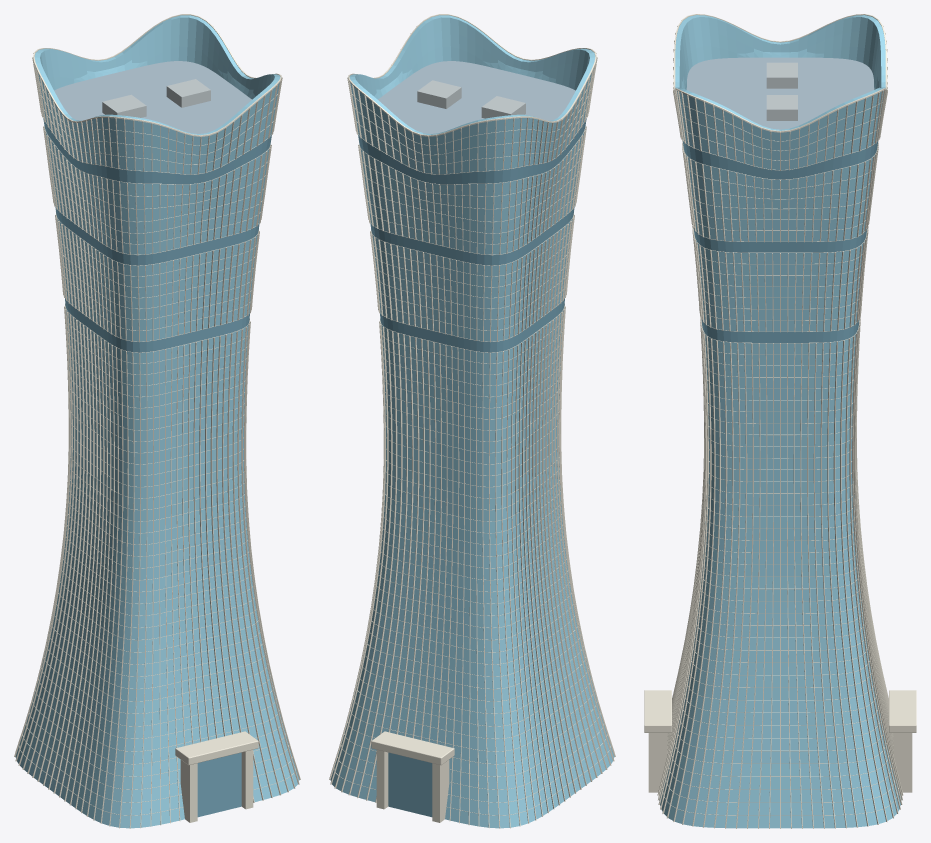
3 renders of one model, left to right at view 1: azimuth 30°, elevation 25°; view 2: azimuth 150°, elevation 25°; view 3: azimuth 270°, elevation 25°, orthographic. The views are drawn at different scales.
Visible parts, largest first — view 1: ZUN-facade-glass, ZUN-vertical-mullions, ZUN-horizontal-transoms, R2-ZUN-shallow-roof-pan, lobby-recess--1, flared-lobby-canopy--1, ZUN-wave-crown-edge, R2-ZUN-entry--1-jamb--0.19, R2-ZUN-roof-equipment-1, R2-ZUN-roof-equipment-0, R2-ZUN-entry--1-jamb-0.19; view 2: ZUN-facade-glass, ZUN-vertical-mullions, ZUN-horizontal-transoms, R2-ZUN-shallow-roof-pan, lobby-recess-1, flared-lobby-canopy-1, ZUN-wave-crown-edge, R2-ZUN-entry-1-jamb--0.19, R2-ZUN-roof-equipment-1, R2-ZUN-entry-1-jamb-0.19, R2-ZUN-roof-equipment-0; view 3: ZUN-facade-glass, ZUN-vertical-mullions, ZUN-horizontal-transoms, R2-ZUN-shallow-roof-pan, ZUN-wave-crown-edge, flared-lobby-canopy-1, flared-lobby-canopy--1, R2-ZUN-entry-1-jamb-0.19, R2-ZUN-entry--1-jamb-0.19, R2-ZUN-roof-equipment-0, R2-ZUN-roof-equipment-1.
Boxes of the visible parts, x1=… form: ZUN-facade-glass: x1=15, y1=15, x2=299, y2=828; ZUN-vertical-mullions: x1=14, y1=26, x2=300, y2=828; ZUN-horizontal-transoms: x1=19, y1=77, x2=295, y2=815; R2-ZUN-shallow-roof-pan: x1=54, y1=61, x2=251, y2=133; lobby-recess--1: x1=197, y1=752, x2=241, y2=817; flared-lobby-canopy--1: x1=175, y1=731, x2=258, y2=765; ZUN-wave-crown-edge: x1=33, y1=14, x2=281, y2=136; R2-ZUN-entry--1-jamb--0.19: x1=180, y1=760, x2=197, y2=822; R2-ZUN-roof-equipment-1: x1=166, y1=79, x2=210, y2=107; R2-ZUN-roof-equipment-0: x1=102, y1=94, x2=146, y2=117; R2-ZUN-entry--1-jamb-0.19: x1=241, y1=750, x2=253, y2=809; ZUN-facade-glass: x1=330, y1=15, x2=614, y2=828; ZUN-vertical-mullions: x1=329, y1=26, x2=615, y2=828; ZUN-horizontal-transoms: x1=334, y1=77, x2=610, y2=815; R2-ZUN-shallow-roof-pan: x1=378, y1=61, x2=575, y2=133; lobby-recess-1: x1=388, y1=752, x2=432, y2=817; flared-lobby-canopy-1: x1=371, y1=731, x2=454, y2=765; ZUN-wave-crown-edge: x1=348, y1=14, x2=596, y2=136; R2-ZUN-entry-1-jamb--0.19: x1=432, y1=760, x2=449, y2=822; R2-ZUN-roof-equipment-1: x1=417, y1=80, x2=461, y2=108; R2-ZUN-entry-1-jamb-0.19: x1=376, y1=750, x2=388, y2=809; R2-ZUN-roof-equipment-0: x1=481, y1=96, x2=525, y2=118; ZUN-facade-glass: x1=659, y1=15, x2=901, y2=828; ZUN-vertical-mullions: x1=657, y1=20, x2=903, y2=828; ZUN-horizontal-transoms: x1=661, y1=102, x2=899, y2=815; R2-ZUN-shallow-roof-pan: x1=686, y1=57, x2=874, y2=129; ZUN-wave-crown-edge: x1=673, y1=14, x2=887, y2=132; flared-lobby-canopy-1: x1=889, y1=690, x2=916, y2=732; flared-lobby-canopy--1: x1=644, y1=690, x2=671, y2=732; R2-ZUN-entry-1-jamb-0.19: x1=893, y1=733, x2=912, y2=792; R2-ZUN-entry--1-jamb-0.19: x1=648, y1=733, x2=667, y2=792; R2-ZUN-roof-equipment-0: x1=766, y1=62, x2=797, y2=88; R2-ZUN-roof-equipment-1: x1=766, y1=95, x2=797, y2=120.
Bounding box in the file's own units: 1.42 × 4.58 × 1.57.
